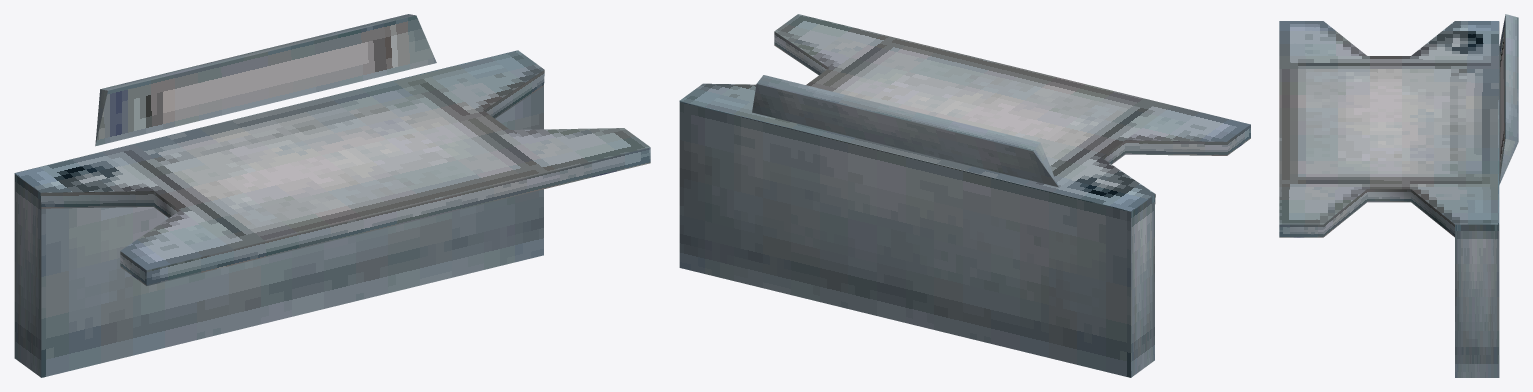
The model's file is frn_imp_tbl_s1_l2.fbx.
3 views of the same model, side by side, from view 1: azimuth 30°, elevation 25°; view 2: azimuth 150°, elevation 25°; view 3: azimuth 270°, elevation 25° (orthographic). The views are drawn at different scales.
Parts seen in each view (by area): view 1: mesh_node; view 2: mesh_node; view 3: mesh_node.
Boxes of the visible parts, box(x1,y1,x2,y2) form: mesh_node: box(14, 14, 650, 377); mesh_node: box(679, 14, 1250, 377); mesh_node: box(1279, 14, 1518, 377).
Size of the model in its own units: 2.16 by 0.9873 by 1.07.
